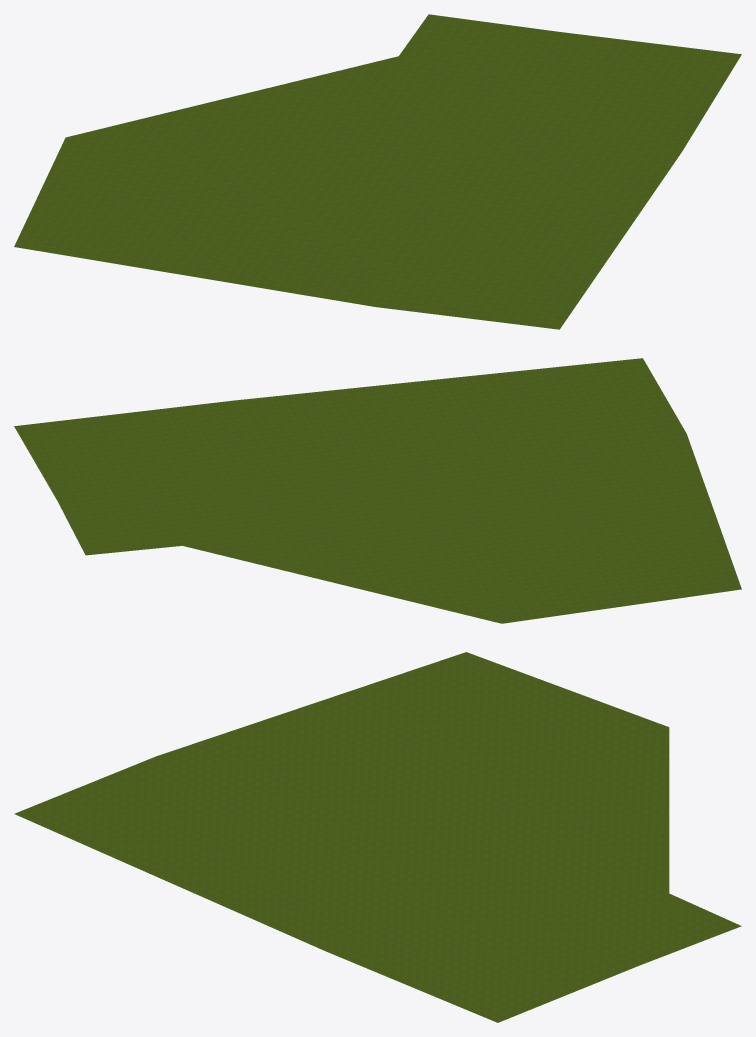
The model's file is ground.glb.
3 renders of one model, top to bottom at view 1: azimuth 30°, elevation 25°; view 2: azimuth 150°, elevation 25°; view 3: azimuth 270°, elevation 25°, orthographic. The views are drawn at different scales.
Visible parts, largest first — view 1: ground; view 2: ground; view 3: ground.
Boxes of the visible parts, x1,y1,x2,y2 form: ground: (14, 14, 741, 329); ground: (14, 358, 741, 623); ground: (14, 652, 741, 1022).
Size of the model in its own units: 395 by 0 by 327.
1 material, 1 textured.
